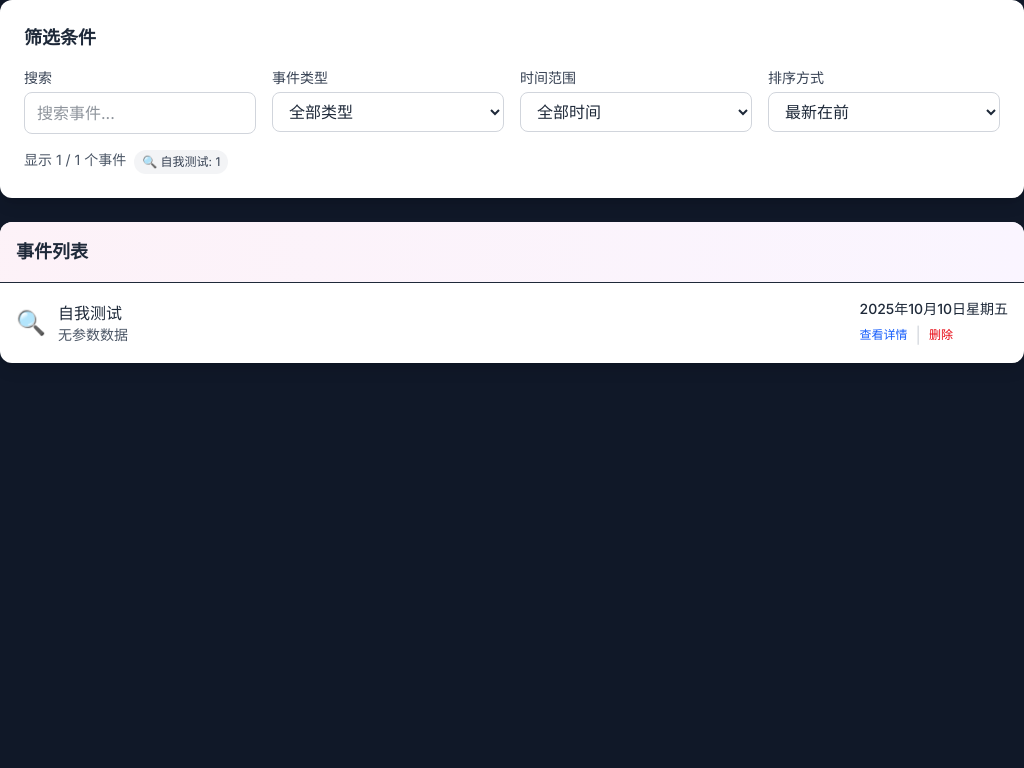
EventManager 组件集成测试 › 事件详情弹窗 › self_test / pending 均说明删除后重新新增且不显示编辑按钮
Click the button "查看详情" at x=884, y=335, box [860, 327, 908, 343]
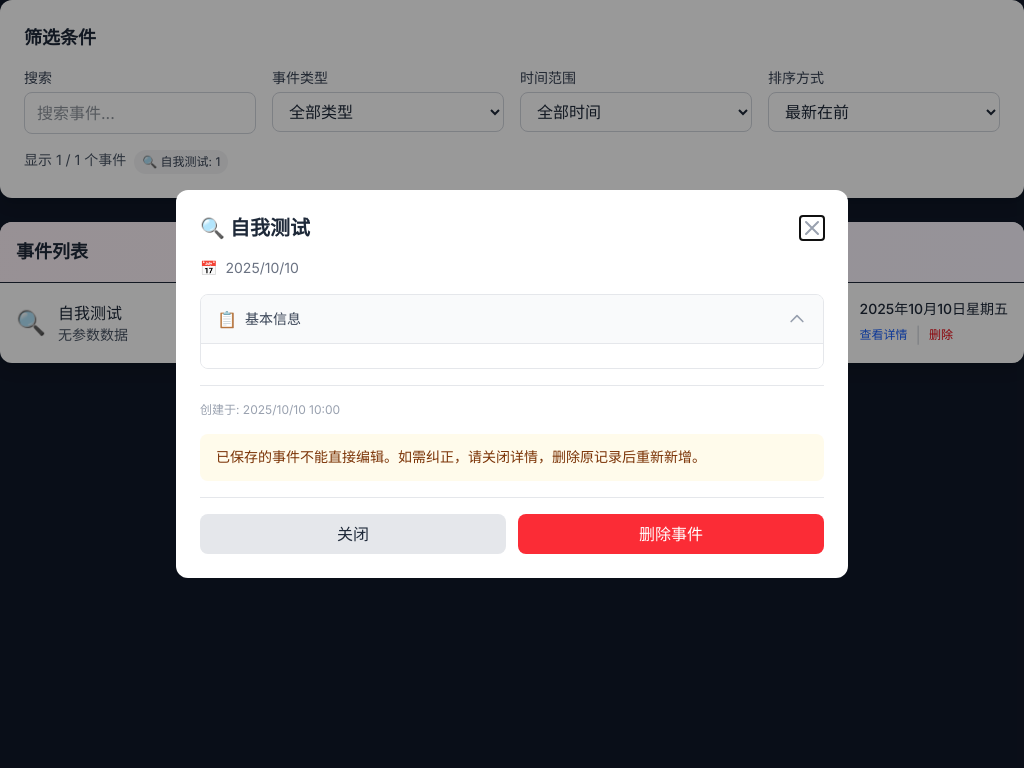
Expected: the message shows "已保存的事件不能直接编辑", [216, 448, 706, 465]
Expected: the message shows "删除原记录后重新新增", [216, 448, 706, 465]
